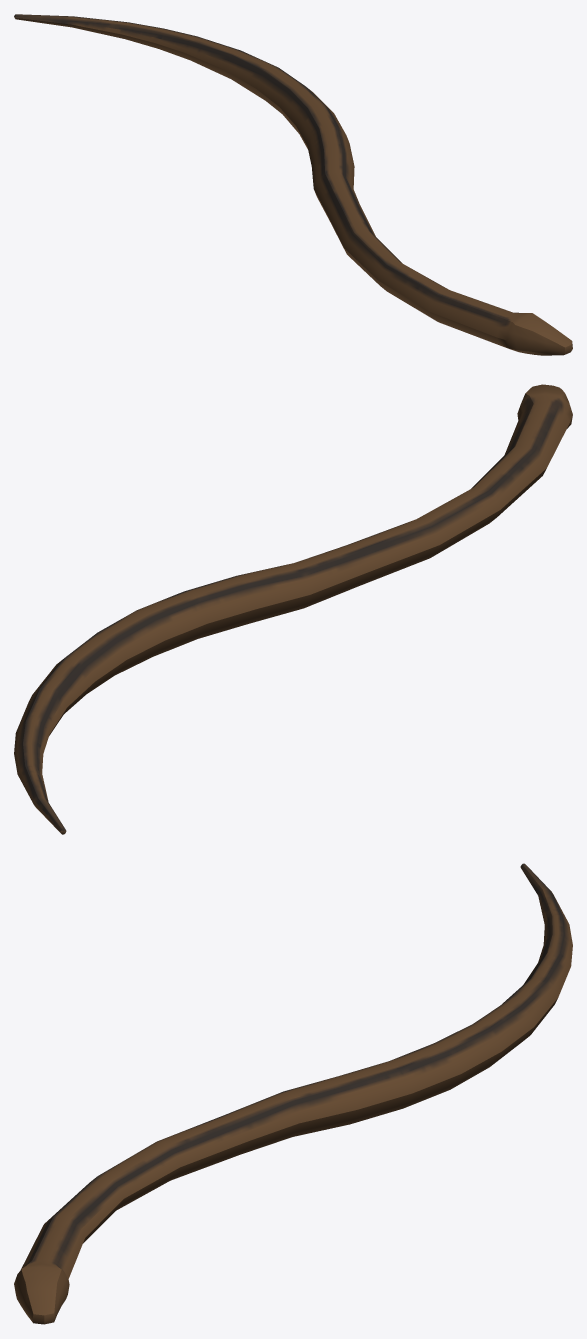
File: snake.fbx
The picture shows the model from 3 angles, top to bottom: view 1: azimuth 30°, elevation 25°; view 2: azimuth 150°, elevation 25°; view 3: azimuth 330°, elevation 25°; orthographic projection. The views are drawn at different scales.
Parts seen in each view (by area): view 1: snake; view 2: snake; view 3: snake.
Part boxes in pixels (x1=…): snake: x1=14, y1=14, x2=572, y2=355; snake: x1=14, y1=384, x2=572, y2=834; snake: x1=14, y1=863, x2=572, y2=1324.
Size of the model in its own units: 17.7 by 4.11 by 102.
